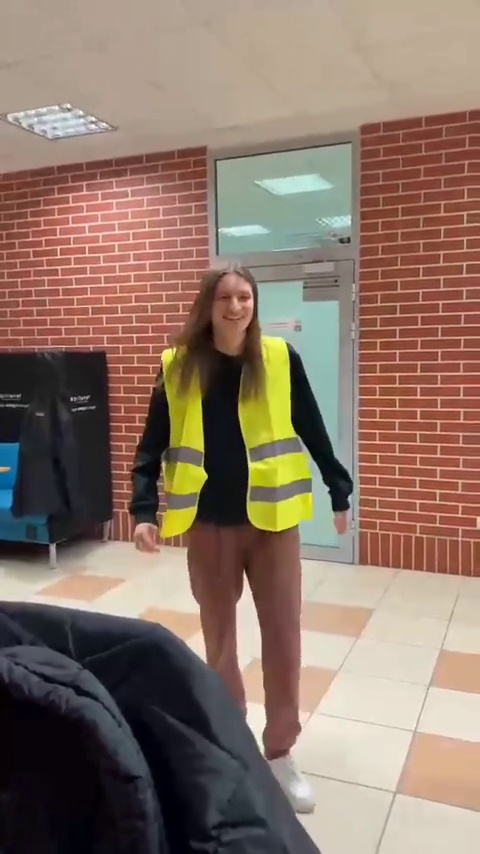vest: (145, 256, 335, 800)
